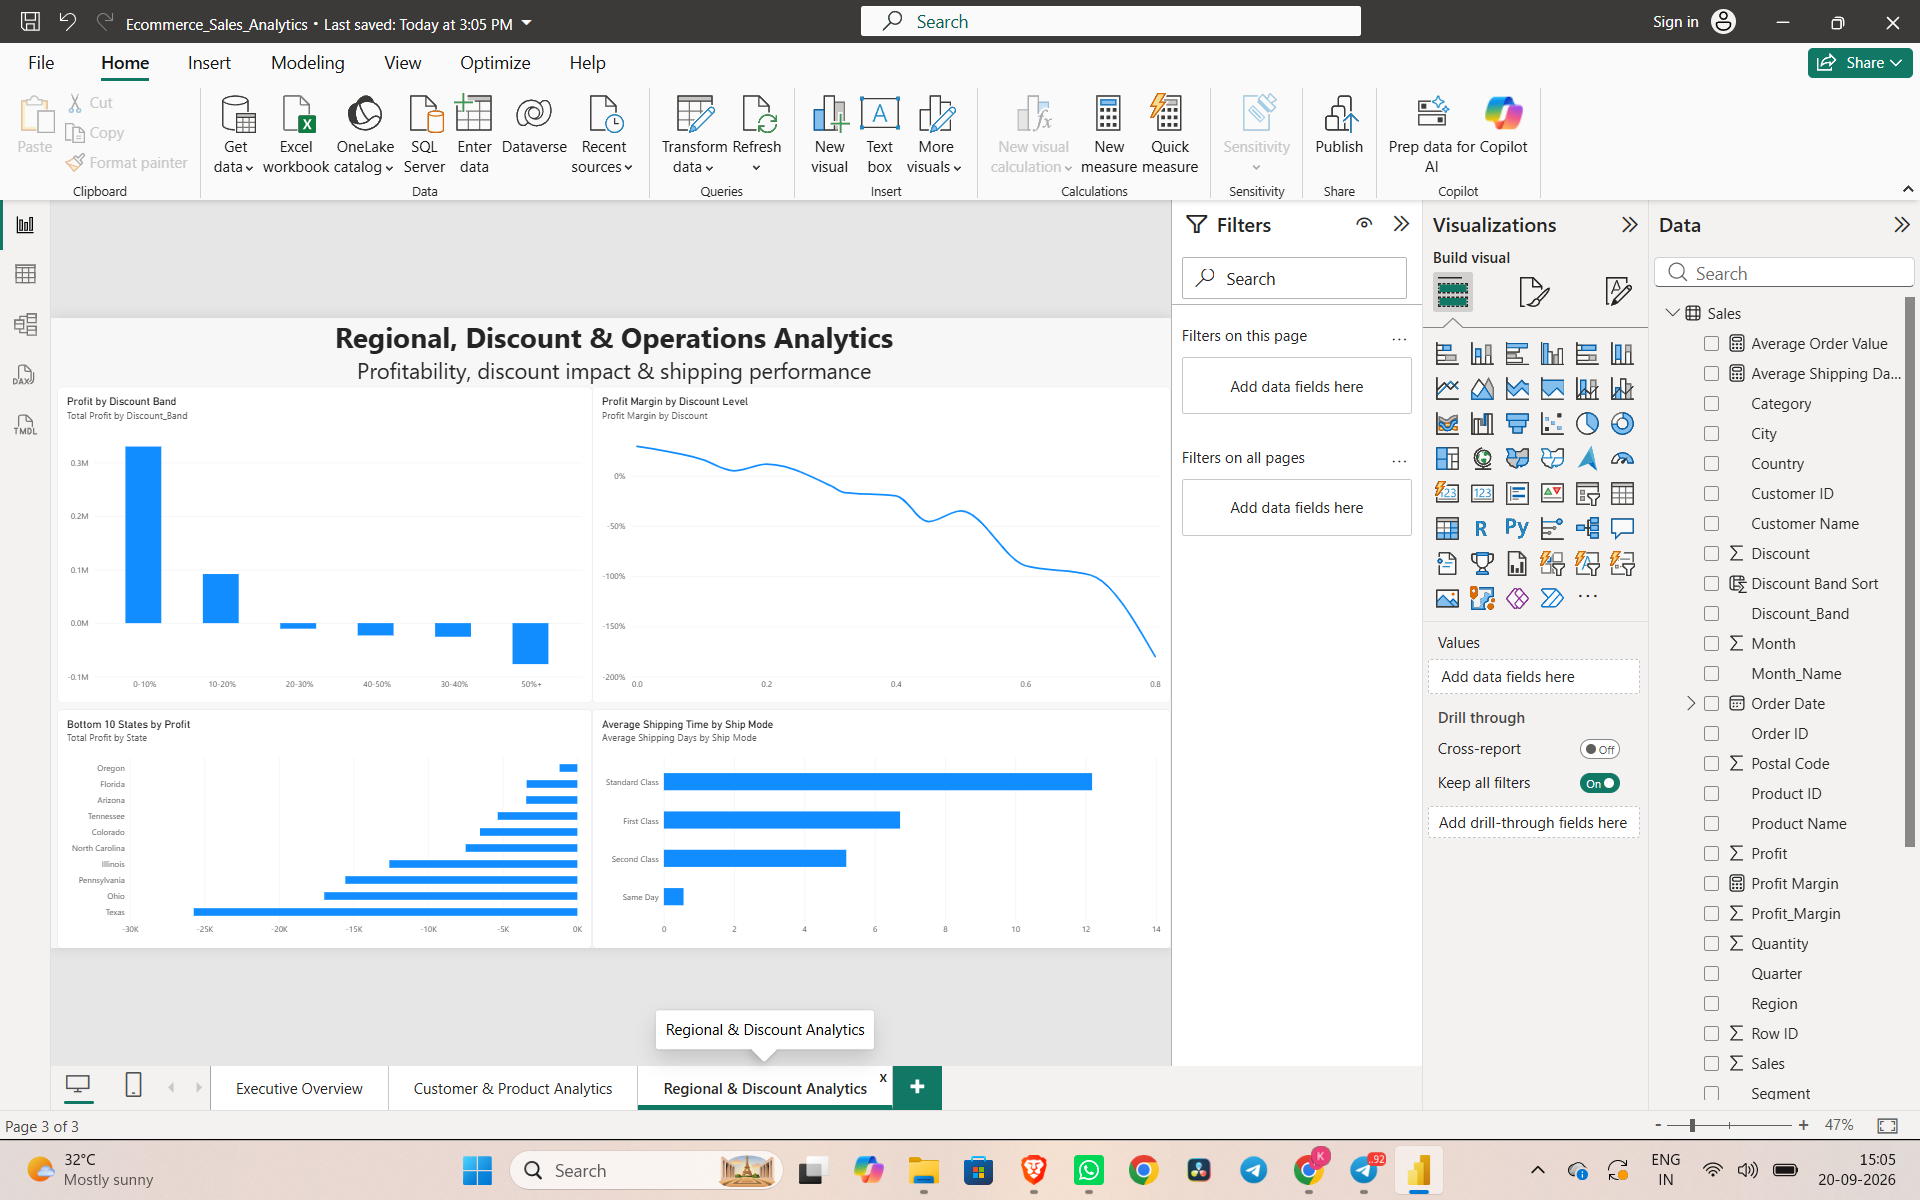

Layout of this report page (visuals, bound fields, positions):
{"tool":"powerbi","page":{"name":"Regional & Discount Analytics","canvas":[1920,1080],"ordinal":2},"visuals":[{"type":"textbox","box":[10.7,0,1909.7,117.9],"z":0},{"type":"clusteredColumnChart","title":"Profit by Discount Band","fields":{"Category":["Sales.Discount_Band"],"Y":["Sales.Total Profit"]},"box":[10.7,117.9,917.4,542.3],"z":1000},{"type":"lineChart","title":"Profit Margin by Discount Level","fields":{"Category":["Sales.Discount"],"Y":["Sales.Profit Margin"]},"box":[928.1,117.9,992.4,542.3],"z":1001},{"type":"clusteredBarChart","title":"Bottom 10 States by Profit","fields":{"Category":["Sales.State"],"Y":["Sales.Total Profit"]},"box":[11,670,917,410],"z":1002},{"type":"clusteredBarChart","title":"Average Shipping Time by Ship Mode","fields":{"Category":["Sales.Ship Mode"],"Y":["Sales.Average Shipping Days"]},"box":[928,670,992,410],"z":1003}]}

Visuals, with their boxes on the page's 1920x1080 design canvas (x1, y1, x2, y2). These are canvas units, not pixel positions in the 1920x1200 screenshot, which may show the page scaled, cropped or inside an application window:
textbox: l=11, t=0, r=1920, b=118
"Profit by Discount Band" clusteredColumnChart: l=11, t=118, r=928, b=660
"Profit Margin by Discount Level" lineChart: l=928, t=118, r=1920, b=660
"Bottom 10 States by Profit" clusteredBarChart: l=11, t=670, r=928, b=1080
"Average Shipping Time by Ship Mode" clusteredBarChart: l=928, t=670, r=1920, b=1080
